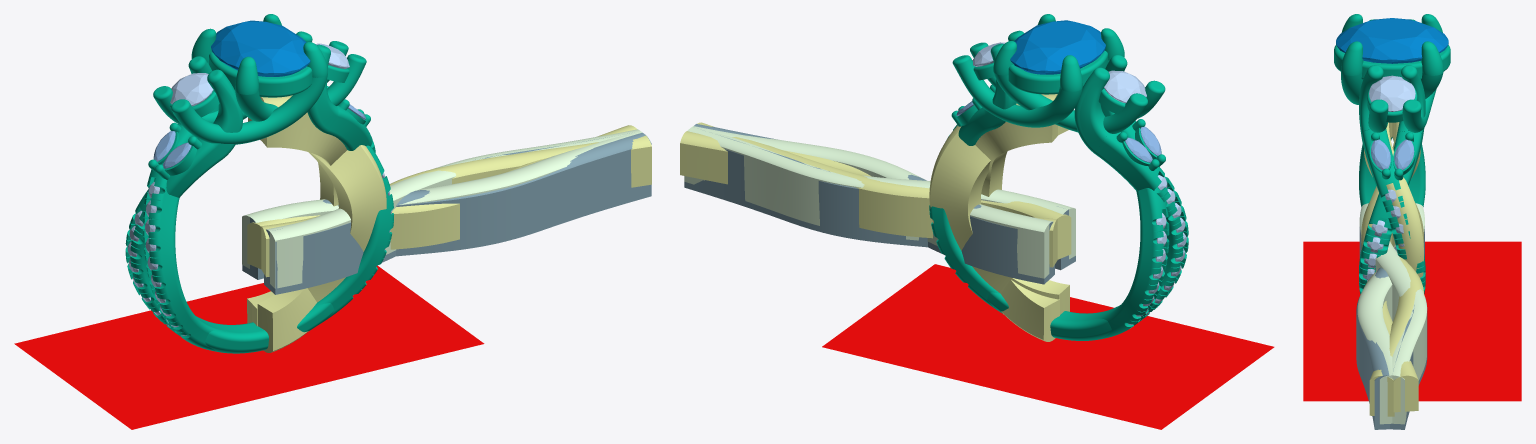
3 renders of one model, left to right at view 1: azimuth 30°, elevation 25°; view 2: azimuth 150°, elevation 25°; view 3: azimuth 270°, elevation 25°, orthographic. The views are drawn at different scales.
Parts seen in each view (by area): view 1: RING.JTC.SRO30(front).3dm, Diamond_Oval, Diamond_Round; view 2: RING.JTC.SRO30(front).3dm, Diamond_Oval, Diamond_Round; view 3: RING.JTC.SRO30(front).3dm, Diamond_Oval, Diamond_Round, Diamond_Marquise (×2).
Boxes of the visible parts, x1,y1,x2,y2 form: RING.JTC.SRO30(front).3dm: [14, 14, 651, 429]; Diamond_Oval: [211, 20, 310, 76]; Diamond_Round: [170, 73, 213, 106]; RING.JTC.SRO30(front).3dm: [680, 14, 1274, 429]; Diamond_Oval: [1010, 20, 1105, 74]; Diamond_Round: [1104, 70, 1146, 103]; RING.JTC.SRO30(front).3dm: [1303, 14, 1521, 429]; Diamond_Oval: [1336, 18, 1448, 63]; Diamond_Round: [1369, 75, 1415, 111]; Diamond_Marquise (×2): [1371, 139, 1414, 170].
Size of what is drawn, in the model's own units: 5.59 by 3.02 by 2.04.
